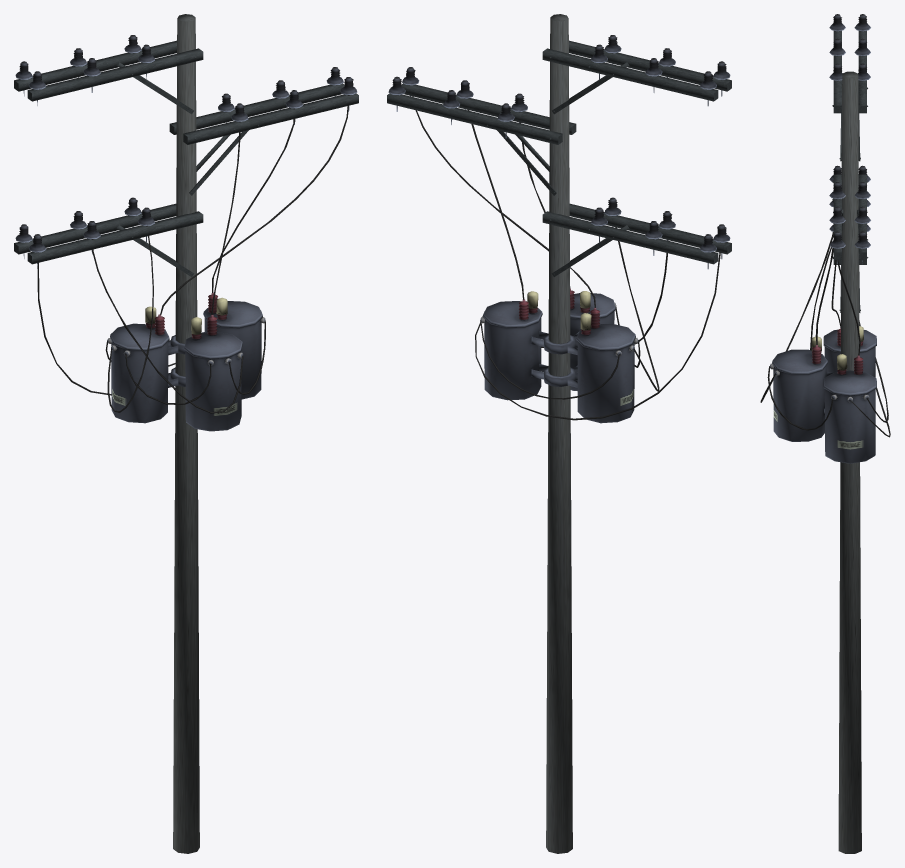
The model's file is pole_concrete_e_lod_1.glb.
3 views of the same model, side by side, from view 1: azimuth 30°, elevation 25°; view 2: azimuth 150°, elevation 25°; view 3: azimuth 270°, elevation 25° (orthographic). The views are drawn at different scales.
Visible parts, largest first — view 1: pole_concrete_e_lod_1; view 2: pole_concrete_e_lod_1; view 3: pole_concrete_e_lod_1.
Part boxes in pixels (x1,y1,x2,y2): pole_concrete_e_lod_1: [14, 14, 358, 853]; pole_concrete_e_lod_1: [387, 14, 731, 853]; pole_concrete_e_lod_1: [760, 14, 890, 853].
Size of the model in its own units: 4.2 by 10.2 by 1.55.
2 materials, 2 textured.
